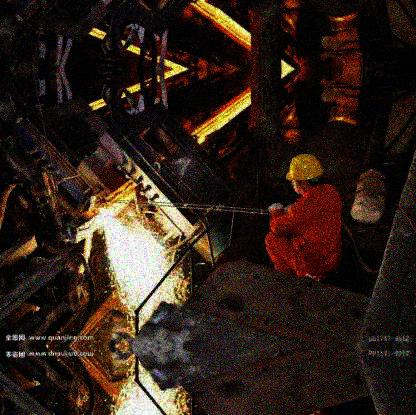helmet: (283, 153, 326, 195)
